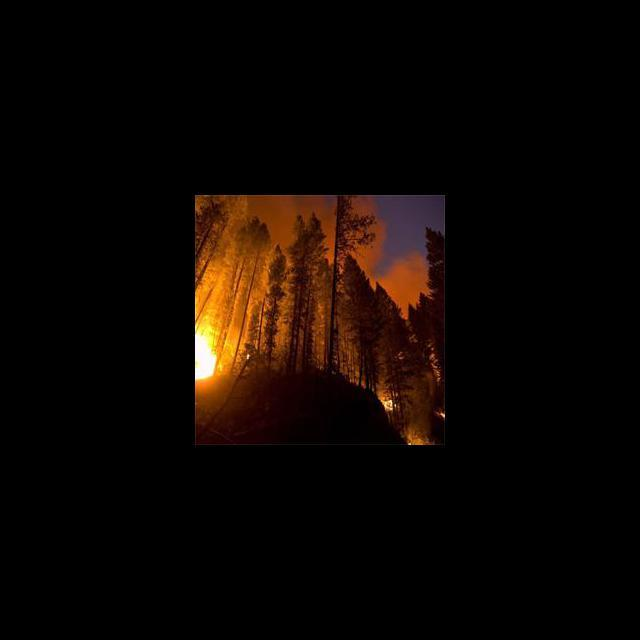Fire: (195, 319, 230, 385), (378, 395, 400, 414)
